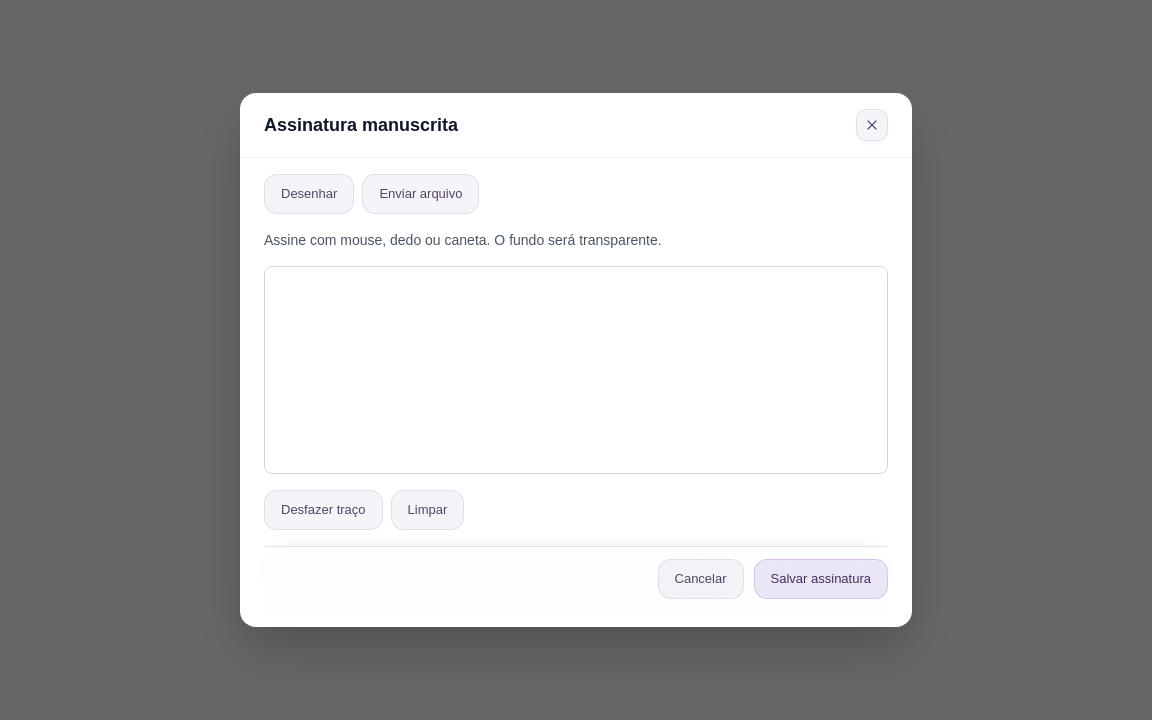
editor reutilizável de assinatura › rejeita desenho vazio sem enviar ao servidor
Click the button "Salvar assinatura" at (821, 579), box left=754, top=559, right=888, bottom=599
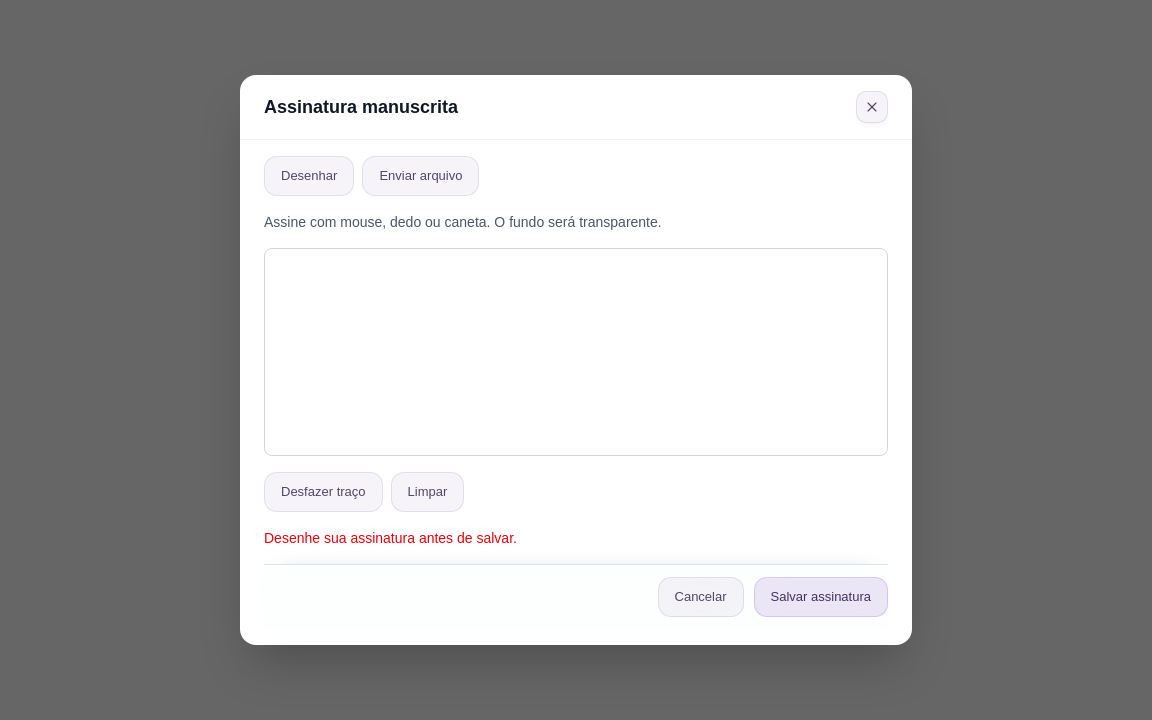
Expected: the message shows "Desenhe sua assinatura", left=264, top=530, right=517, bottom=546
